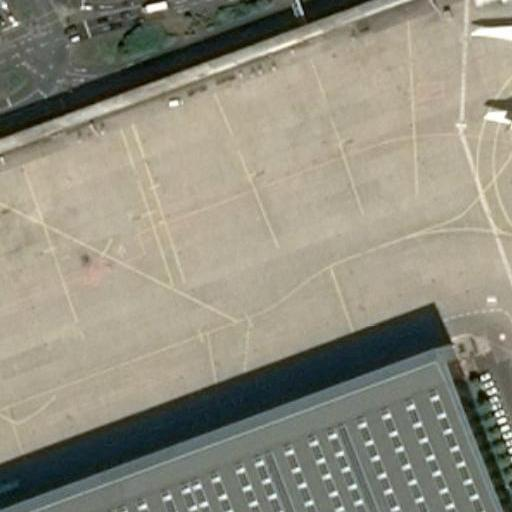Aircraft: (461, 0, 512, 155), (465, 0, 512, 147)
